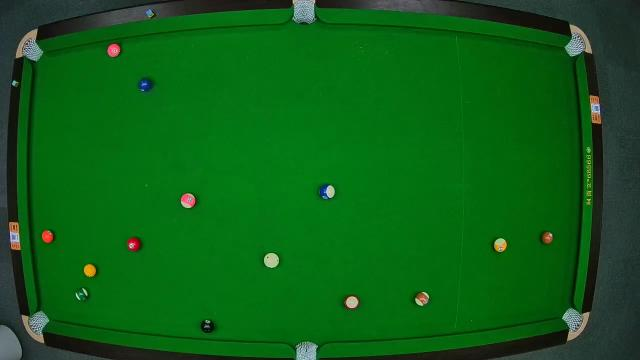bag1: (20, 38, 42, 62)
bag2: (292, 1, 316, 25)
bag3: (566, 34, 588, 54)
bag4: (30, 310, 48, 332)
bag5: (295, 339, 317, 360)
bag6: (562, 308, 584, 330)
ball0: (264, 253, 280, 269)
ball1: (84, 264, 96, 280)
ball10: (319, 184, 335, 200)
ball11: (344, 295, 360, 311)
ball12: (180, 194, 196, 209)
ball14: (73, 286, 89, 302)
ball15: (414, 291, 430, 307)
ball2: (137, 78, 153, 92)
ball3: (128, 236, 140, 252)
ball4: (108, 43, 120, 57)
ball5: (41, 229, 55, 243)
ball7: (540, 231, 554, 245)
ball8: (200, 318, 214, 334)
ball9: (493, 238, 507, 252)
